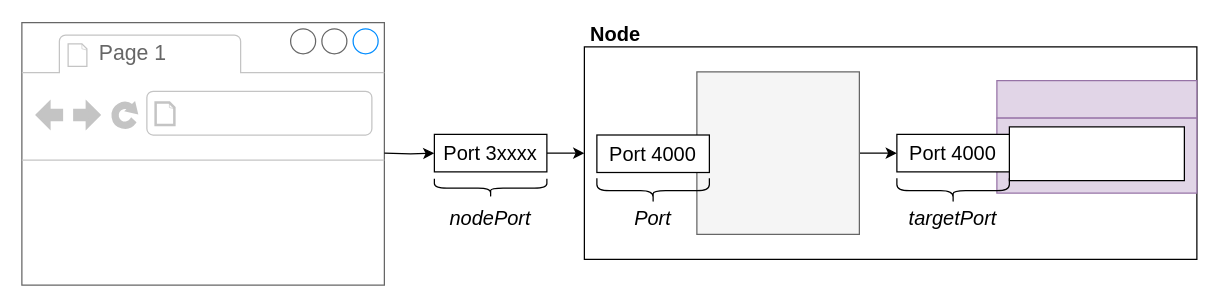
Image size: 1219x306. Some labels were removed from this diagram. The shapes that lost their labels are listed below. From the top down, each one's centre as x and y in pixels, then its label:
At (1096,98): "Pod".
At (777,152): "Node Port Service".
At (1096,153): "Container running Posts image".
